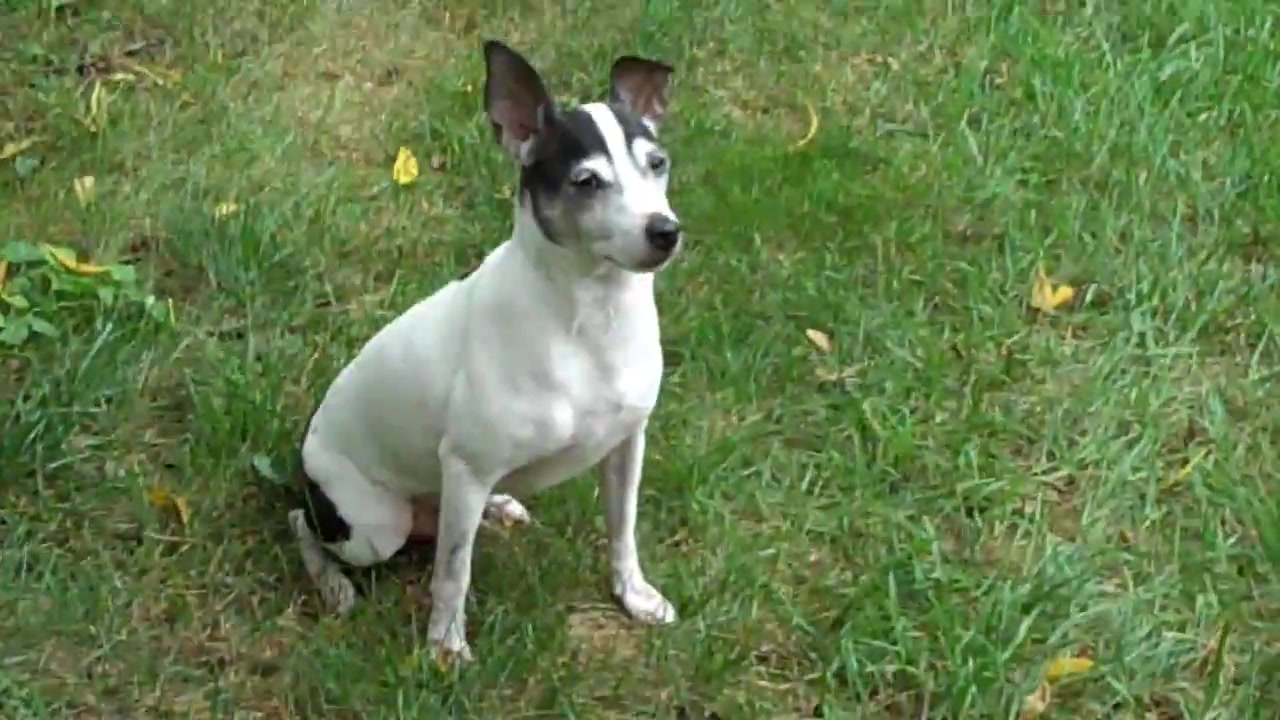dog: (287, 43, 688, 669)
